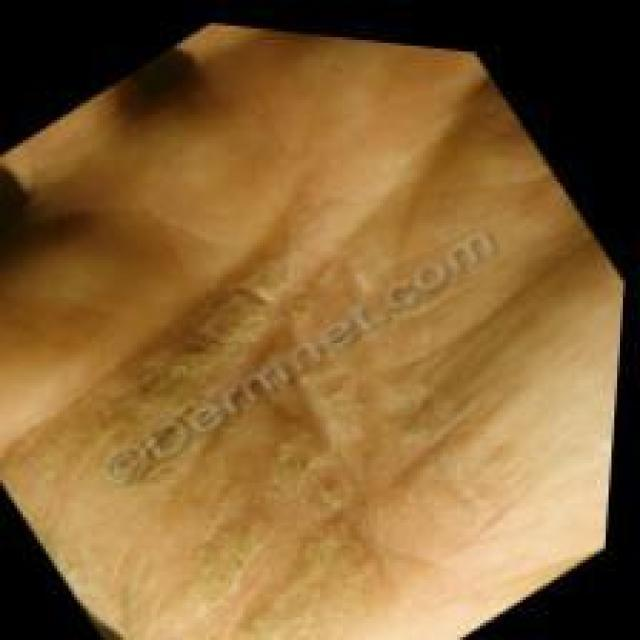Eczema: (111, 228, 479, 618)
